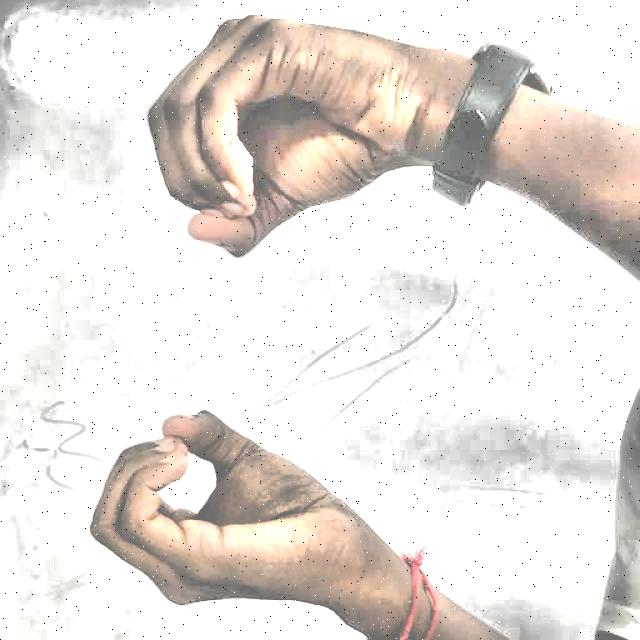Bisharga: (57, 6, 437, 624)
